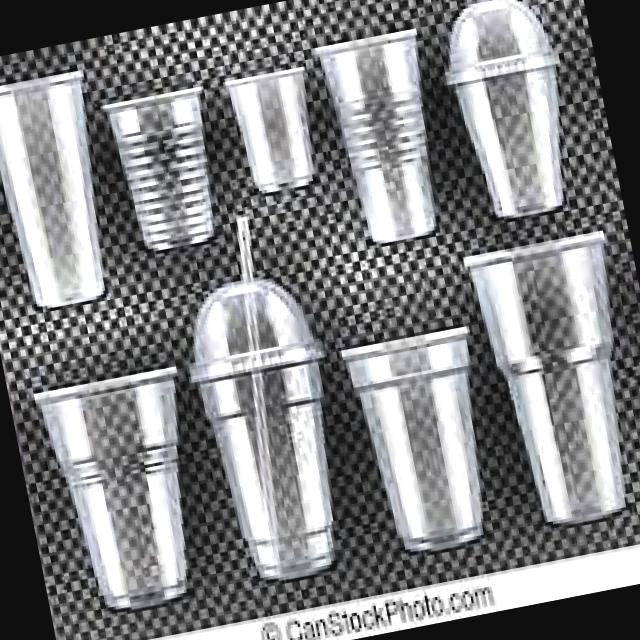plastic cup: (193, 218, 336, 576), (467, 234, 626, 519), (36, 370, 187, 603), (342, 328, 484, 549), (446, 3, 564, 214), (317, 31, 436, 238), (0, 73, 105, 302), (104, 87, 215, 246), (227, 68, 314, 186)
